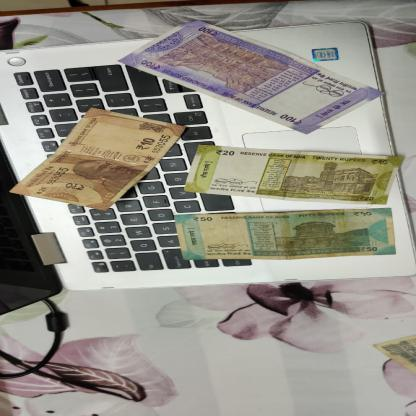New100Back: (117, 20, 386, 135)
New10Front: (9, 107, 189, 212)
New20Back: (184, 144, 408, 205)
New50Back: (172, 207, 398, 261)
